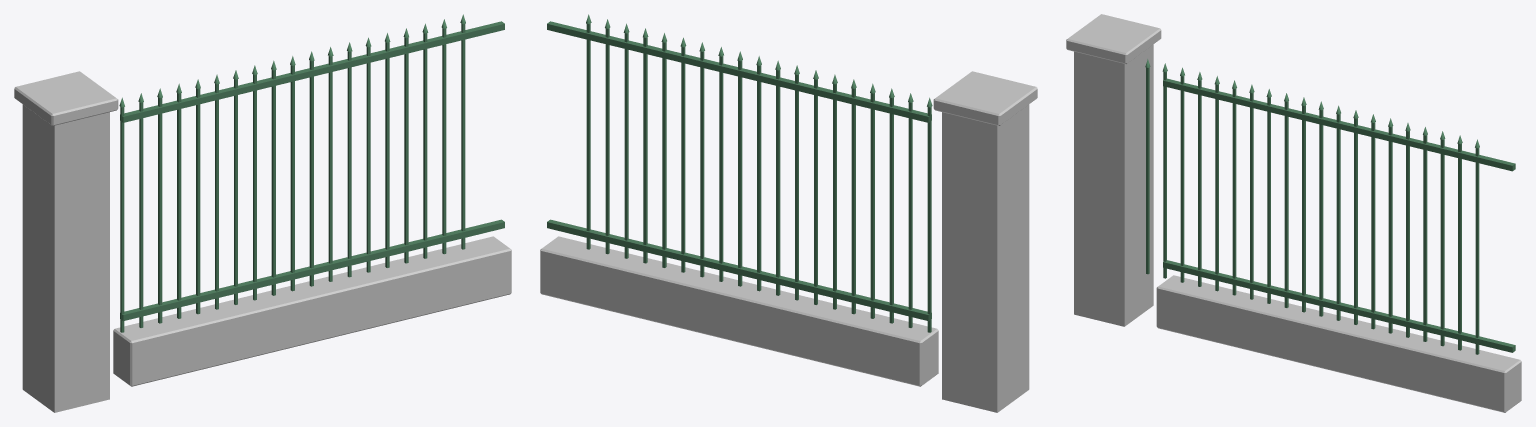
The model's file is fence_school_brick.glb.
The picture shows the model from 3 angles, left to right: view 1: azimuth 30°, elevation 25°; view 2: azimuth 150°, elevation 25°; view 3: azimuth 330°, elevation 25°; orthographic projection. The views are drawn at different scales.
Visible parts, largest first — view 1: fence_school_brick; view 2: fence_school_brick; view 3: fence_school_brick.
Part boxes in pixels (box(x1,y1,x2,y2)): fence_school_brick: box(14, 14, 511, 412); fence_school_brick: box(540, 14, 1037, 412); fence_school_brick: box(1066, 14, 1521, 412).
Size of the model in its own units: 3.23 by 1.98 by 0.46.
